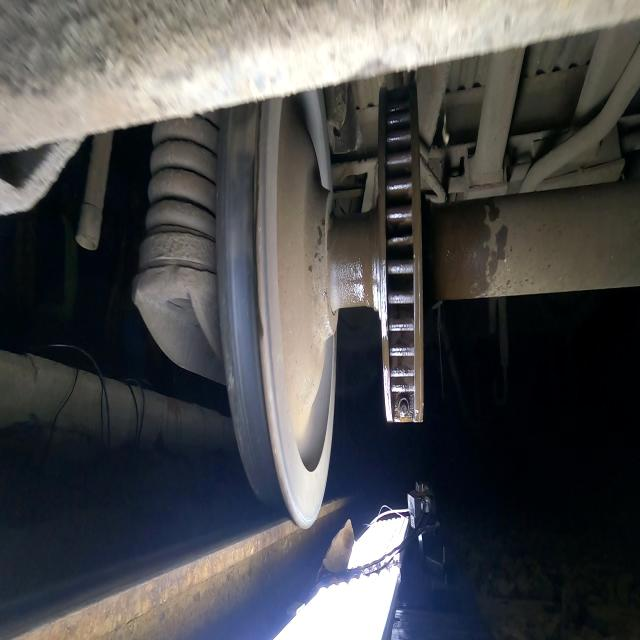Cracks-Scratches: (226, 351, 236, 395)
Shelling: (228, 107, 257, 163)
Wheel: (216, 98, 338, 529)
